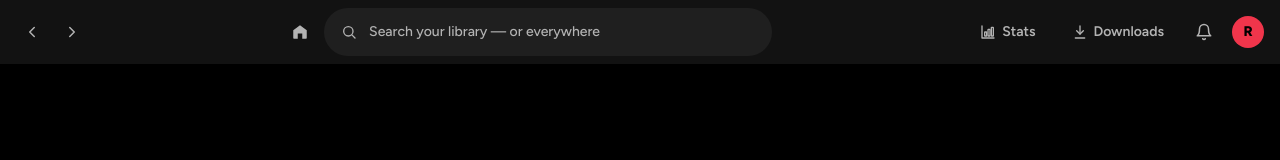
TopBar › avatar button opens a menu with Logout
Click the button "R" at (1248, 32), box [1232,16,1264,48]
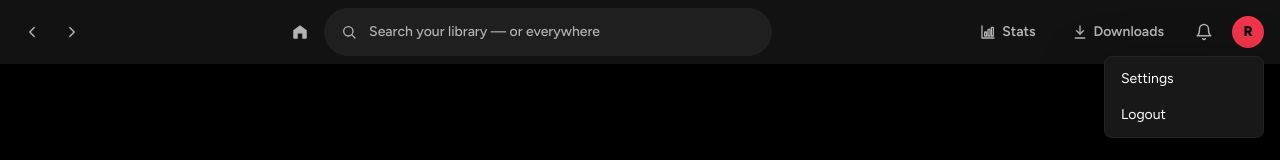
Expected: the menu item "Logout" is shown, [1105,97,1263,133]
